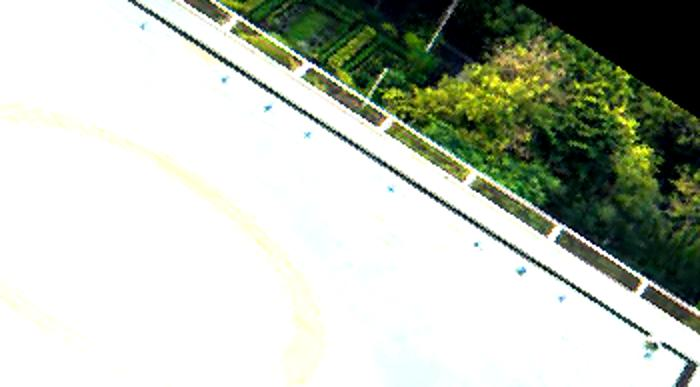Apron: (3, 90, 330, 387)
